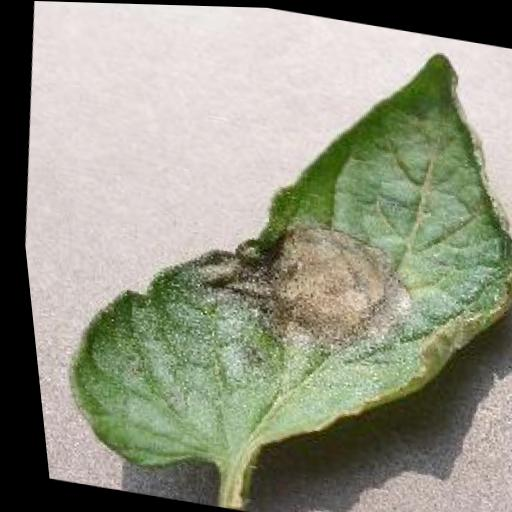Late Blight: (21, 0, 512, 512)
